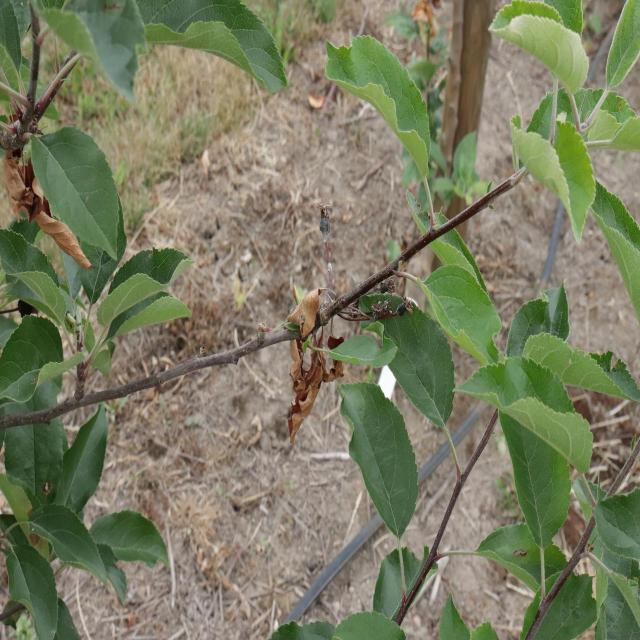-FireBlight-: (0, 101, 82, 268), (270, 284, 329, 435)
